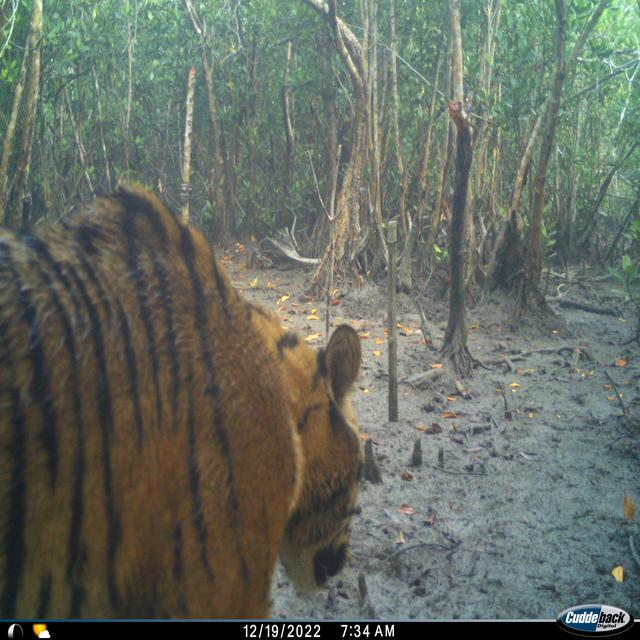tiger: (0, 180, 365, 620)
